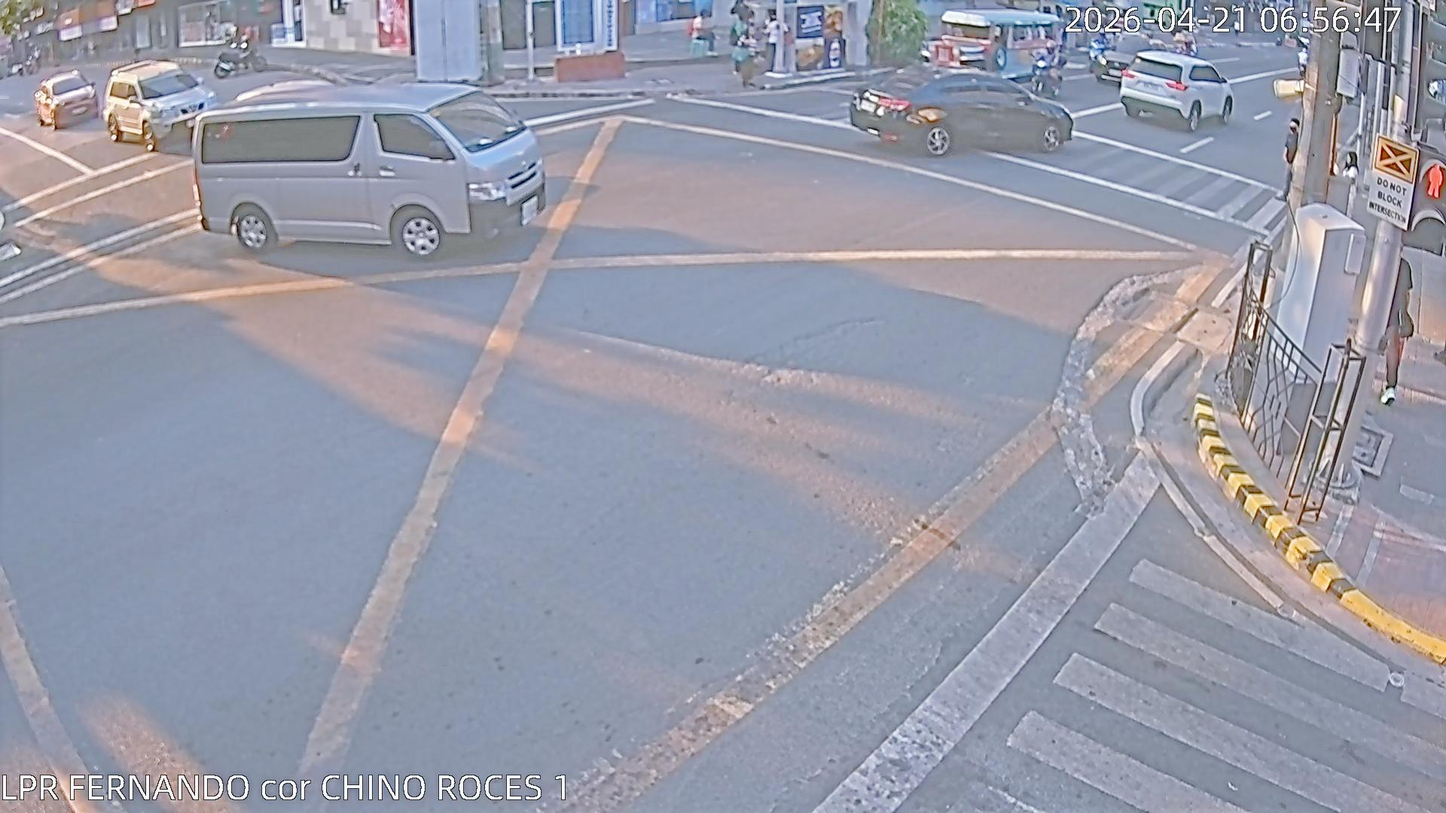Car: (176, 85, 602, 286), (831, 40, 1081, 189), (1122, 43, 1245, 165), (86, 61, 219, 158), (30, 73, 106, 146), (1095, 41, 1151, 88)
